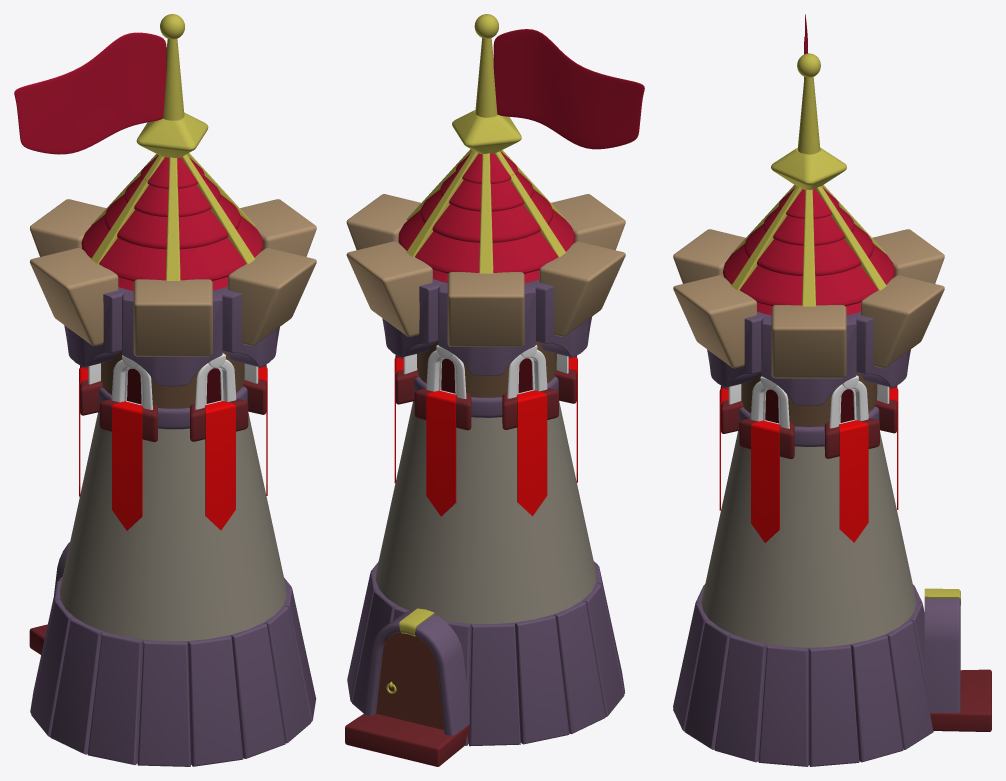
File: kule_2.fbx
The picture shows the model from 3 angles, left to right: view 1: azimuth 30°, elevation 25°; view 2: azimuth 150°, elevation 25°; view 3: azimuth 270°, elevation 25°; orthographic projection. The views are drawn at different scales.
Parts seen in each view (by area): view 1: Circle.001, Circle.012, Plane.004, Plane.006, Plane.002, Circle.006, Circle.009, Circle.018, Circle.010, Circle.005, Plane.001, Plane.005 (+6 smaller); view 2: Circle.012, Circle.001, Plane.004, Plane.006, Circle.004, Plane.002, Circle.006, Circle.009, Plane.003, Circle.018, Circle.010, Circle.005 (+8 smaller); view 3: Circle.012, Circle.001, Plane.004, Plane.002, Circle.006, Circle.009, Circle.004, Circle.018, Circle.010, Circle.005, Plane.001, Plane.003 (+6 smaller).
Boxes of the visible parts, <box> form: Circle.001: <box>30,577,316,766</box>; Circle.012: <box>59,412,286,641</box>; Plane.004: <box>30,199,316,356</box>; Plane.006: <box>14,32,166,154</box>; Plane.002: <box>79,367,267,530</box>; Circle.006: <box>64,250,279,386</box>; Circle.009: <box>81,215,263,281</box>; Circle.018: <box>91,153,255,280</box>; Circle.010: <box>104,194,240,249</box>; Circle.005: <box>88,359,258,409</box>; Plane.001: <box>80,364,266,442</box>; Plane.005: <box>136,112,208,158</box>; Circle.012: <box>375,401,596,623</box>; Circle.001: <box>347,561,624,746</box>; Plane.004: <box>346,194,625,346</box>; Plane.006: <box>493,29,644,149</box>; Circle.004: <box>363,610,469,735</box>; Plane.002: <box>394,357,577,516</box>; Circle.006: <box>382,244,592,375</box>; Circle.009: <box>398,209,575,273</box>; Plane.003: <box>345,713,469,766</box>; Circle.018: <box>406,149,565,273</box>; Circle.010: <box>420,189,553,242</box>; Circle.005: <box>403,349,568,398</box>; Circle.012: <box>701,431,916,647</box>; Circle.001: <box>673,584,933,766</box>; Plane.004: <box>673,229,944,378</box>; Plane.002: <box>719,388,898,542</box>; Circle.006: <box>707,278,911,405</box>; Circle.009: <box>723,243,895,306</box>; Circle.004: <box>924,598,960,712</box>; Circle.018: <box>731,185,886,306</box>; Circle.010: <box>744,223,873,275</box>; Circle.005: <box>728,381,889,428</box>; Plane.001: <box>720,385,897,459</box>; Plane.003: <box>930,669,991,731</box>.
Bounding box in the file's own units: 242 × 560 × 247.
